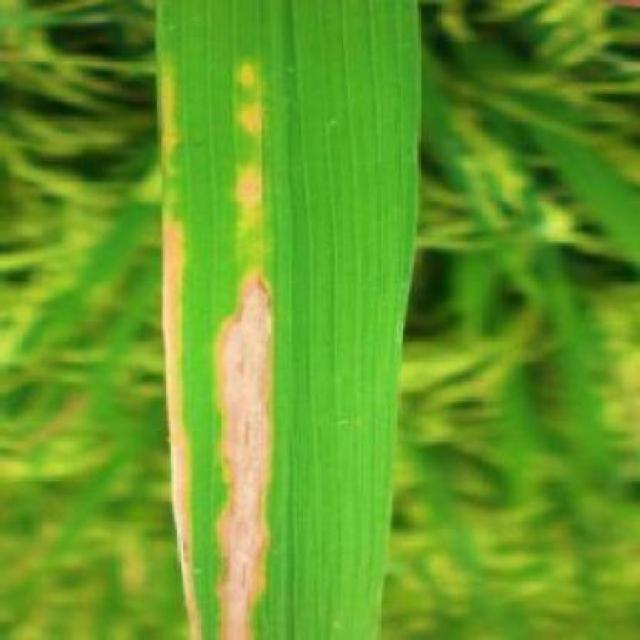Brown_Spot: (147, 0, 416, 638)
